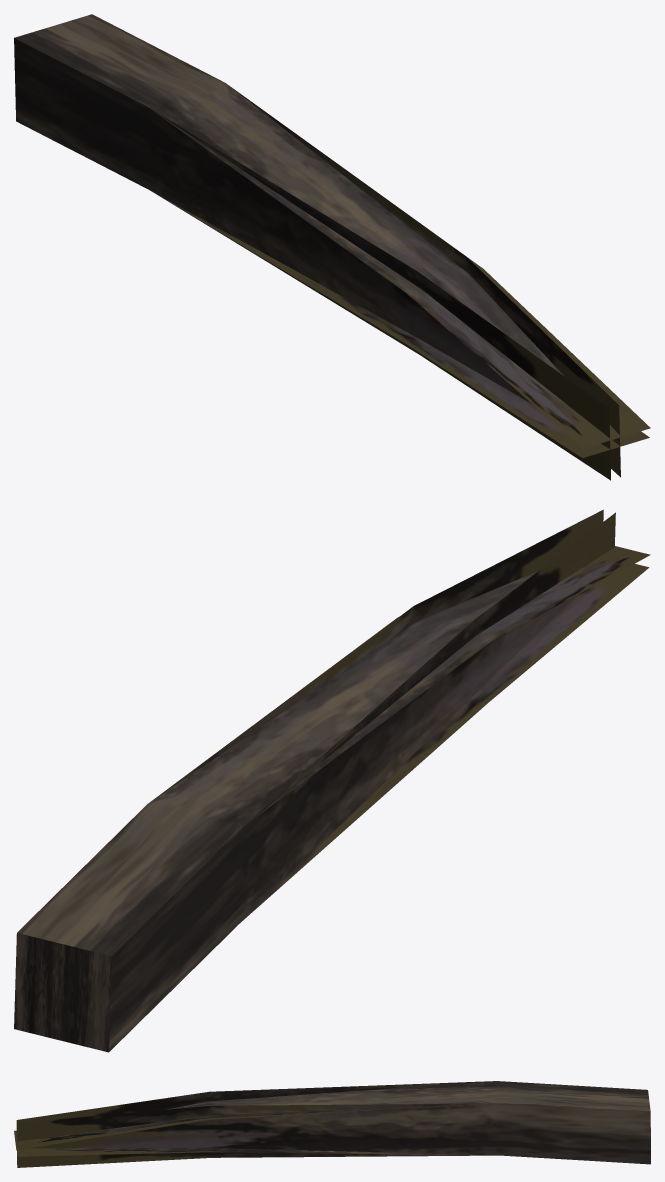
File: burnt_stick.fbx
The picture shows the model from 3 angles, top to bottom: view 1: azimuth 30°, elevation 25°; view 2: azimuth 150°, elevation 25°; view 3: azimuth 270°, elevation 25°; orthographic projection. The views are drawn at different scales.
Parts seen in each view (by area): view 1: lod_high; view 2: lod_high; view 3: lod_high.
Part boxes in pixels (bbox=[...]): lod_high: bbox=[14, 14, 650, 480]; lod_high: bbox=[14, 509, 650, 1052]; lod_high: bbox=[14, 1081, 650, 1167].
Size of the model in its own units: 246 by 208 by 1853.
Materials: 1 (1 with a texture image).
